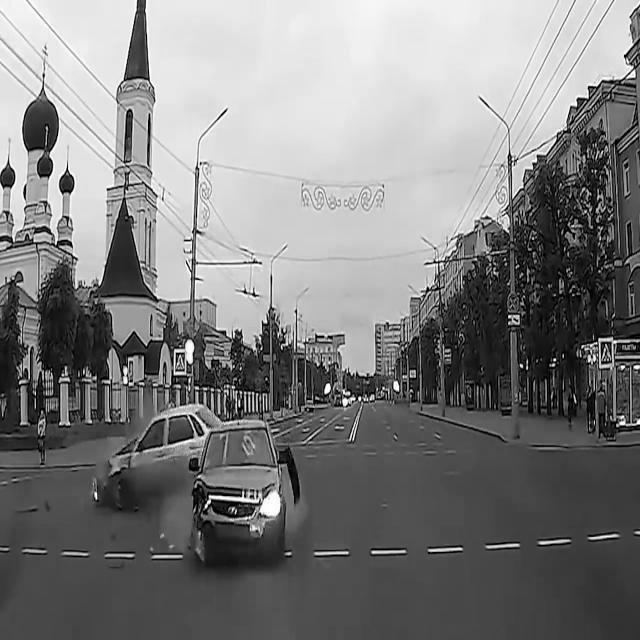accident: (72, 395, 306, 573)
